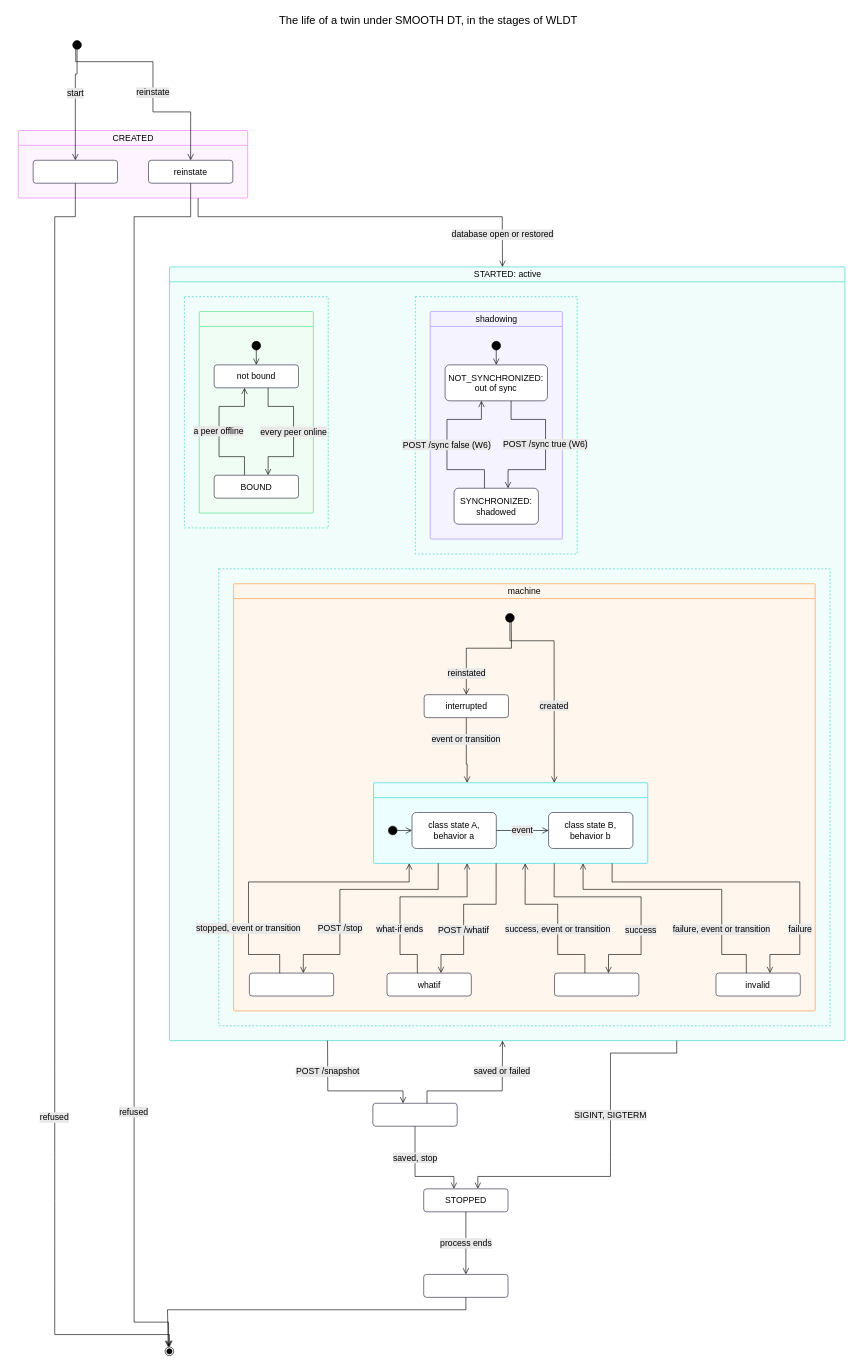
Some shapes in this 856 by 1366 pixel diagram are drawn without their labels. Each missing label, with the box of its shape:
binding: (199, 311, 313, 513)
create: (33, 160, 117, 183)
DESTROYED: (423, 1274, 508, 1297)
running: (373, 782, 648, 863)
save: (372, 1103, 457, 1126)
stopped (Done): (249, 972, 334, 996)
valid: (554, 972, 639, 996)
